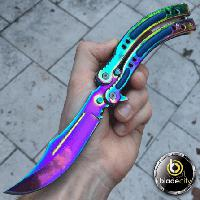knife: (3, 4, 189, 197)
